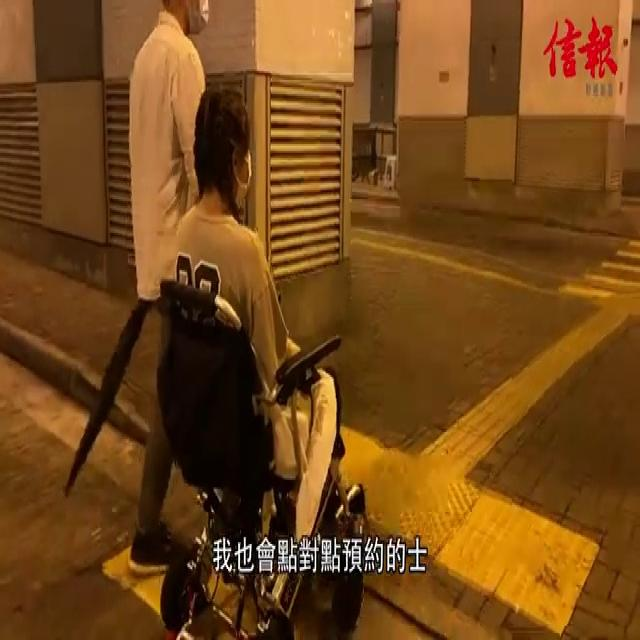wheelchairs: (142, 261, 378, 640)
